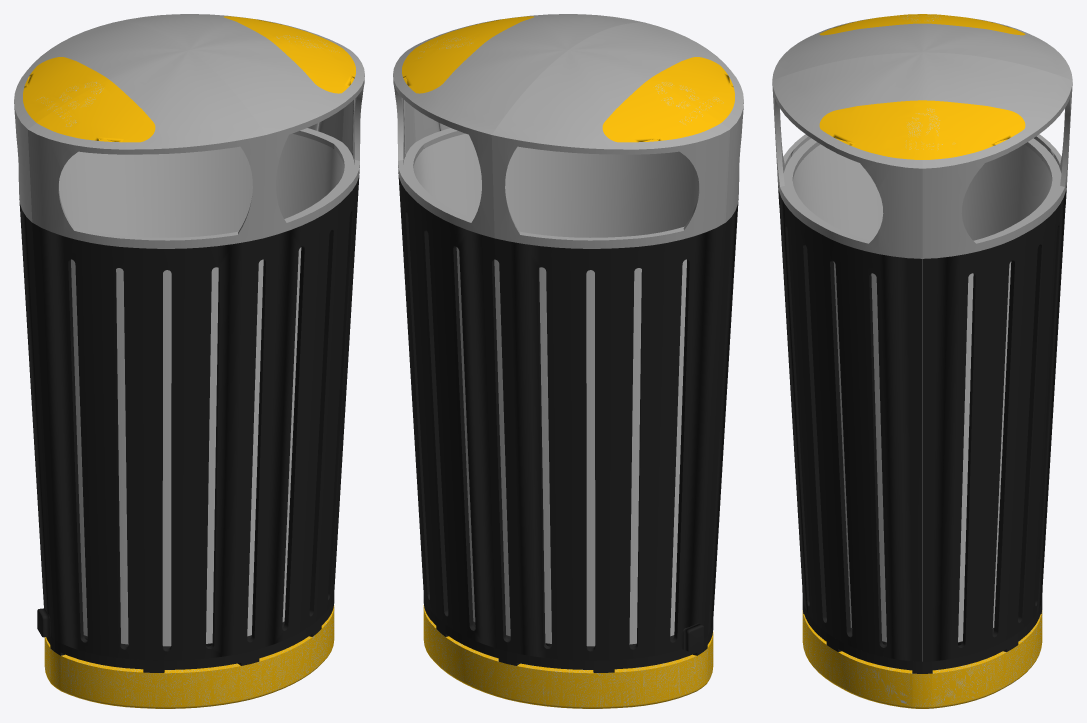
3 renders of one model, left to right at view 1: azimuth 30°, elevation 25°; view 2: azimuth 150°, elevation 25°; view 3: azimuth 270°, elevation 25°, orthographic. The views are drawn at different scales.
Visible parts, largest first — view 1: mesh21_mesh21-geometry, mesh20_mesh20-geometry, mesh16_mesh16-geometry, mesh22_mesh22-geometry, mesh23_mesh23-geometry, mesh24_mesh24-geometry, mesh1_mesh1-geometry, mesh2_mesh2-geometry, mesh18_mesh18-geometry, mesh17_mesh17-geometry; view 2: mesh20_mesh20-geometry, mesh21_mesh21-geometry, mesh16_mesh16-geometry, mesh23_mesh23-geometry, mesh22_mesh22-geometry, mesh24_mesh24-geometry, mesh1_mesh1-geometry, mesh2_mesh2-geometry, mesh17_mesh17-geometry, mesh18_mesh18-geometry; view 3: mesh20_mesh20-geometry, mesh21_mesh21-geometry, mesh23_mesh23-geometry, mesh22_mesh22-geometry, mesh16_mesh16-geometry, mesh24_mesh24-geometry, mesh2_mesh2-geometry, mesh1_mesh1-geometry, mesh17_mesh17-geometry, mesh18_mesh18-geometry.
Boxes of the visible parts, x1,y1,x2,y2 form: mesh21_mesh21-geometry: (32, 223, 263, 660); mesh20_mesh20-geometry: (19, 172, 359, 651); mesh16_mesh16-geometry: (59, 133, 344, 646); mesh22_mesh22-geometry: (28, 14, 349, 248); mesh23_mesh23-geometry: (14, 22, 364, 238); mesh24_mesh24-geometry: (44, 605, 334, 708); mesh1_mesh1-geometry: (23, 57, 155, 142); mesh2_mesh2-geometry: (224, 16, 355, 93); mesh18_mesh18-geometry: (55, 640, 250, 672); mesh17_mesh17-geometry: (46, 594, 334, 663); mesh20_mesh20-geometry: (494, 223, 725, 660); mesh21_mesh21-geometry: (398, 172, 738, 651); mesh16_mesh16-geometry: (413, 133, 698, 646); mesh23_mesh23-geometry: (408, 14, 729, 248); mesh22_mesh22-geometry: (393, 22, 743, 238); mesh24_mesh24-geometry: (423, 605, 713, 708); mesh1_mesh1-geometry: (602, 57, 734, 142); mesh2_mesh2-geometry: (402, 16, 533, 93); mesh17_mesh17-geometry: (507, 646, 702, 672); mesh18_mesh18-geometry: (423, 594, 713, 663); mesh20_mesh20-geometry: (778, 186, 922, 661); mesh21_mesh21-geometry: (922, 186, 1066, 661); mesh23_mesh23-geometry: (772, 18, 1072, 258); mesh22_mesh22-geometry: (772, 18, 1072, 258); mesh16_mesh16-geometry: (793, 144, 1051, 642); mesh24_mesh24-geometry: (802, 610, 1042, 708); mesh2_mesh2-geometry: (819, 100, 1025, 159); mesh1_mesh1-geometry: (819, 14, 1025, 35); mesh17_mesh17-geometry: (802, 598, 922, 673); mesh18_mesh18-geometry: (922, 598, 1042, 673).
Bounding box in the file's own units: 0.4524 × 0.8105 × 0.372.
